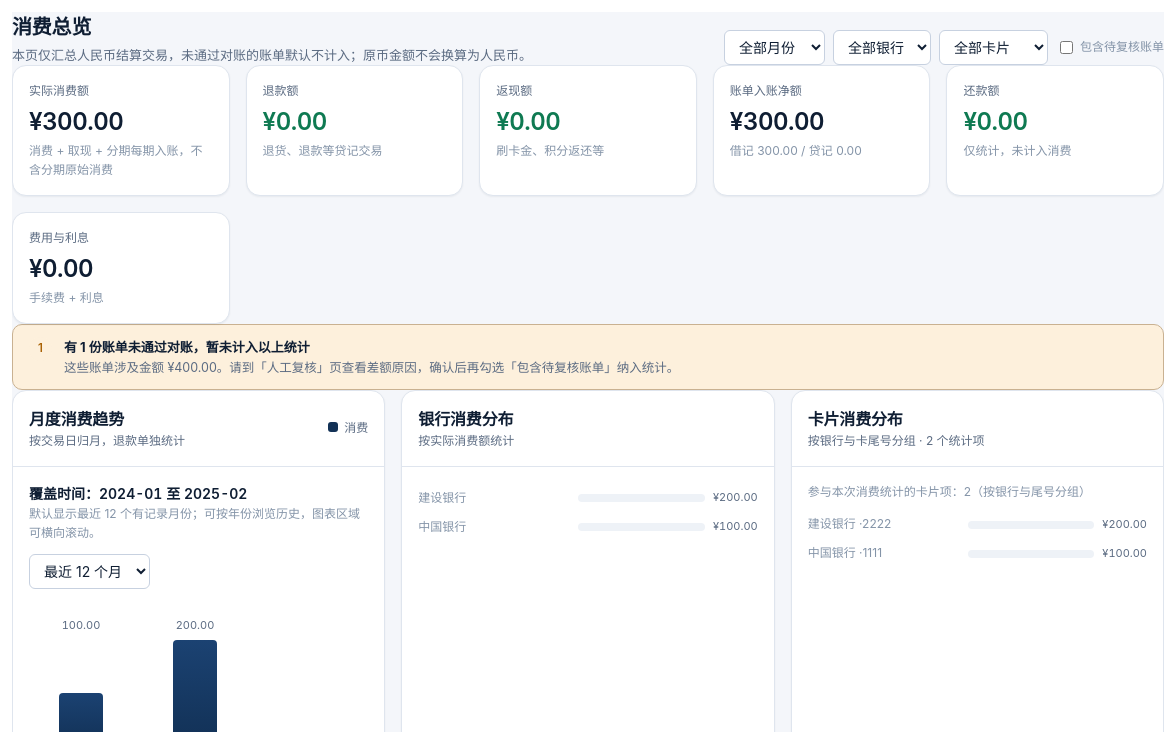
Scenario: Dashboard monthly trend presentation › updates year choices after global filters and does not let chart selection change summary totals
Expected: the text "实际消费额" shows "¥300.00", [29,107,123,136]
Select "按年份查看" in the dropdown named "消费趋势显示范围" at (90, 572), box [29,554,150,589]
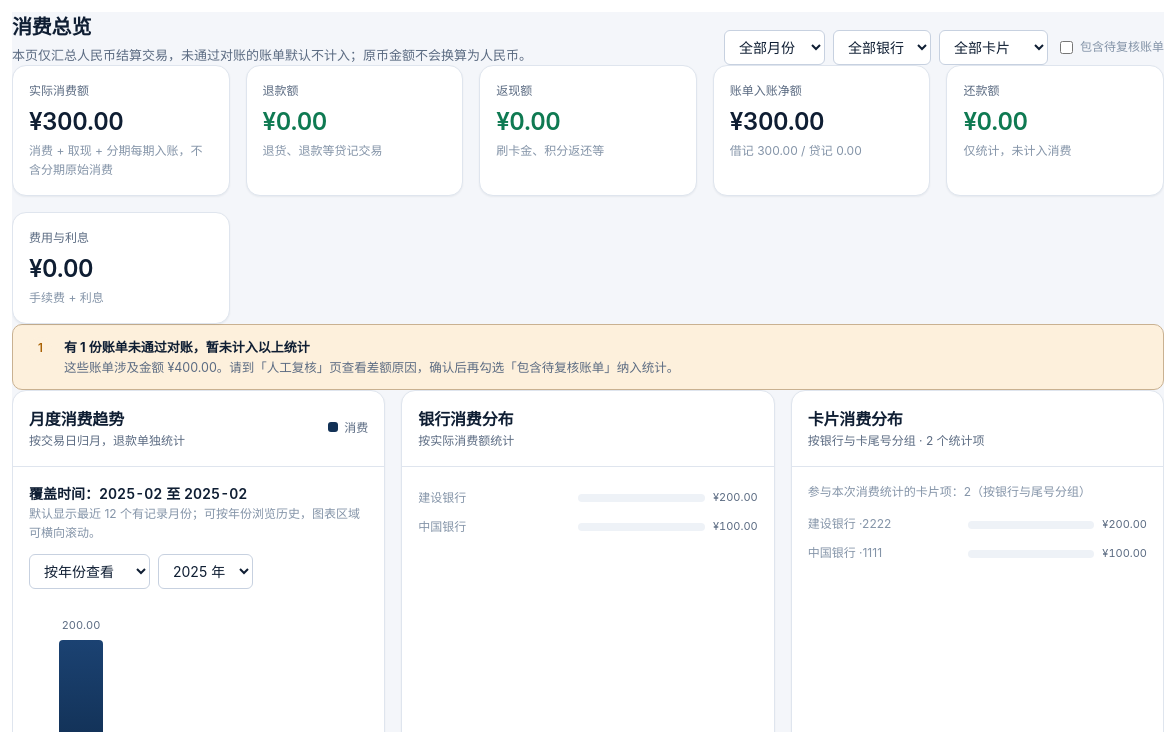
Select "2024 年" in the dropdown named "消费趋势年份" at (206, 572), box [158,554,253,589]
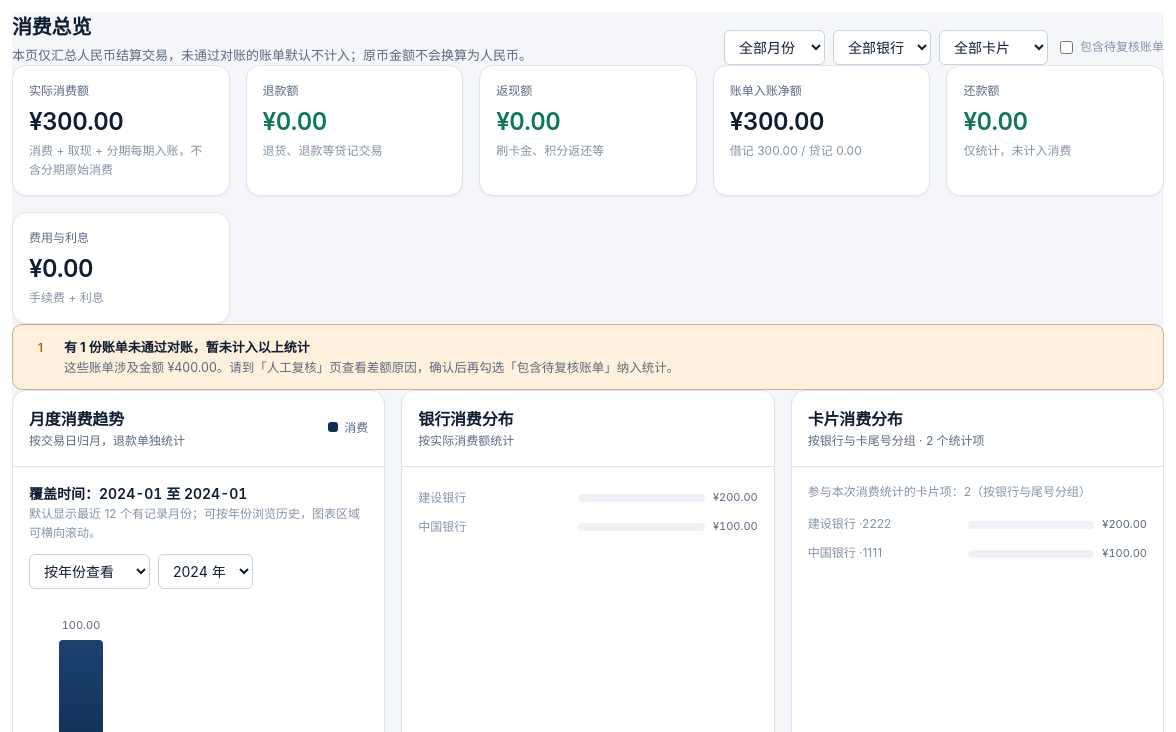
Expected: the text "实际消费额" shows "¥300.00", [29,107,123,136]
Select "建设银行" in the dropdown named "总览银行筛选" at (882, 48), box [833,30,931,65]
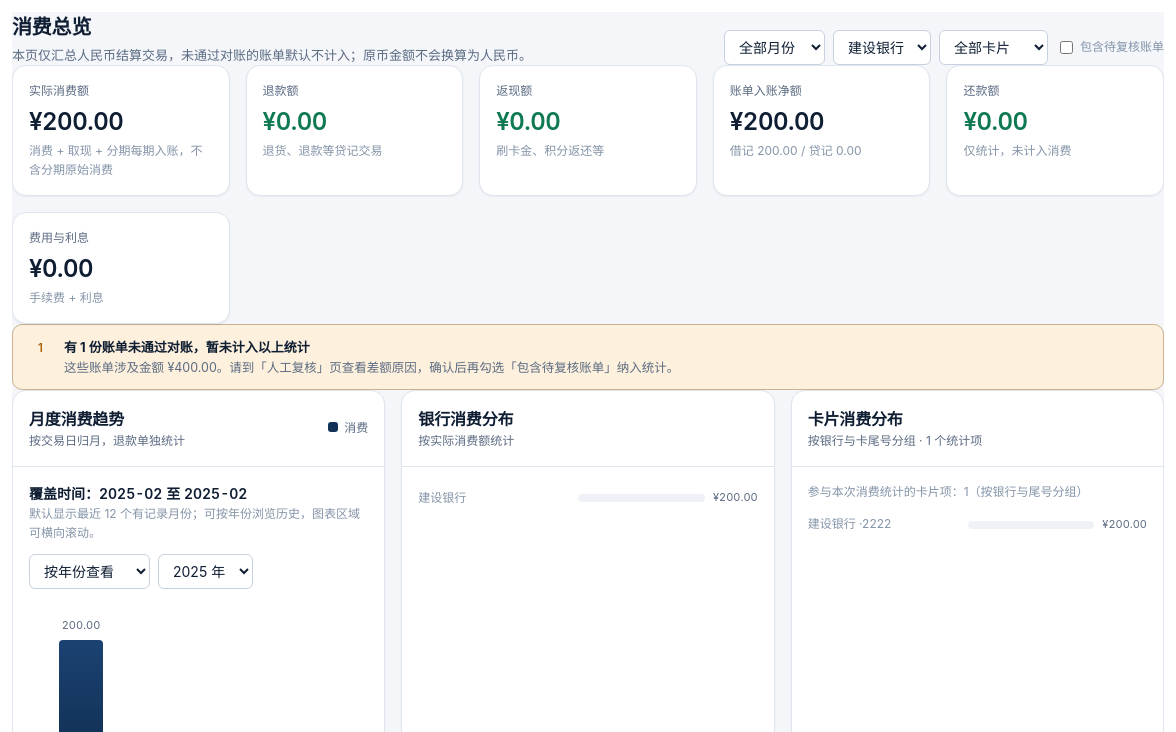
Now the text "实际消费额" shows "¥200.00", box [29,107,123,136]
Select "尾号 2222" in the dropdown named "总览卡片筛选" at (994, 48), box [939,30,1048,65]
Select "2025-02" in the dropdown named "总览月份筛选" at (774, 48), box [724,30,825,65]
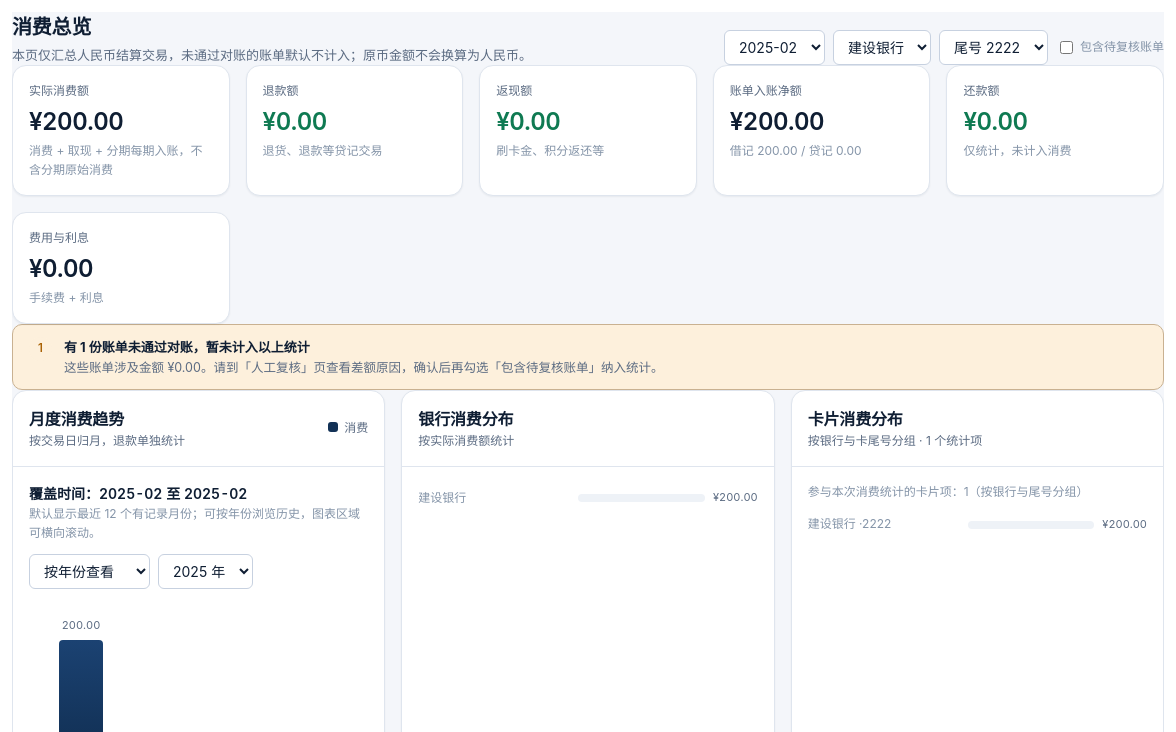
Now the text "实际消费额" shows "¥200.00", box [29,107,123,136]
Select "全部月份" in the dropdown named "总览月份筛选" at (774, 48), box [724,30,825,65]
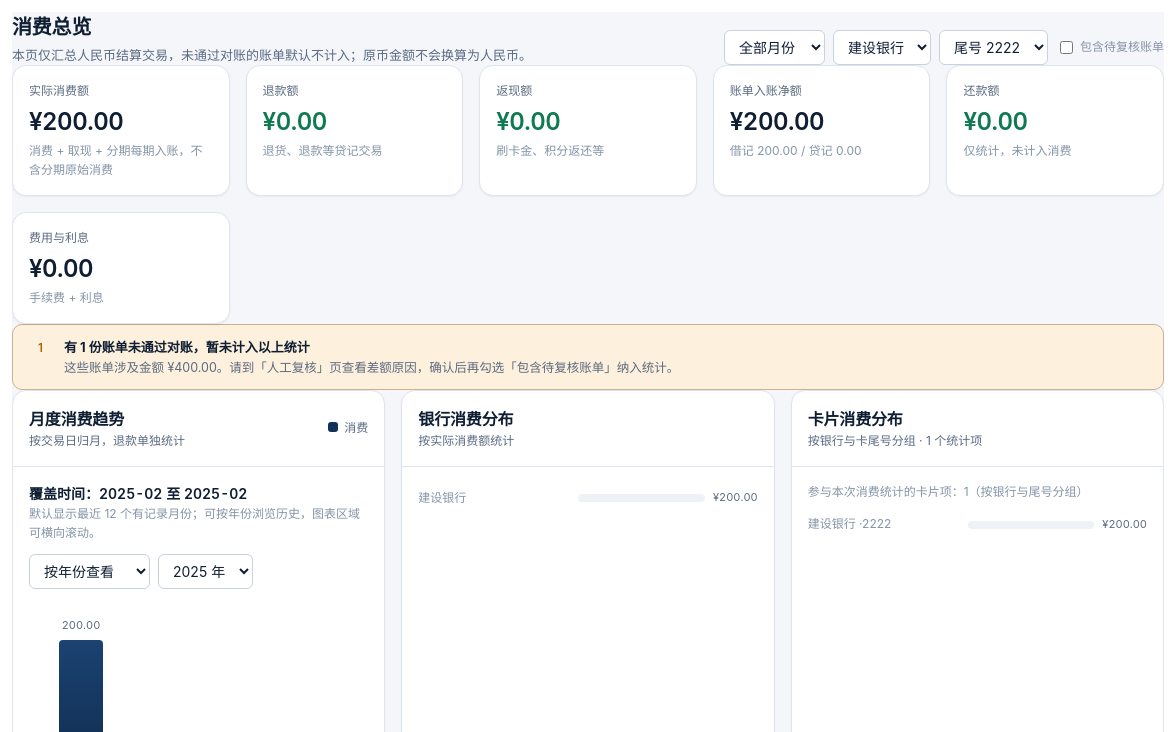
Click the checkbox labelled "包含待复核账单" at (1066, 48), box [1060,41,1073,54]
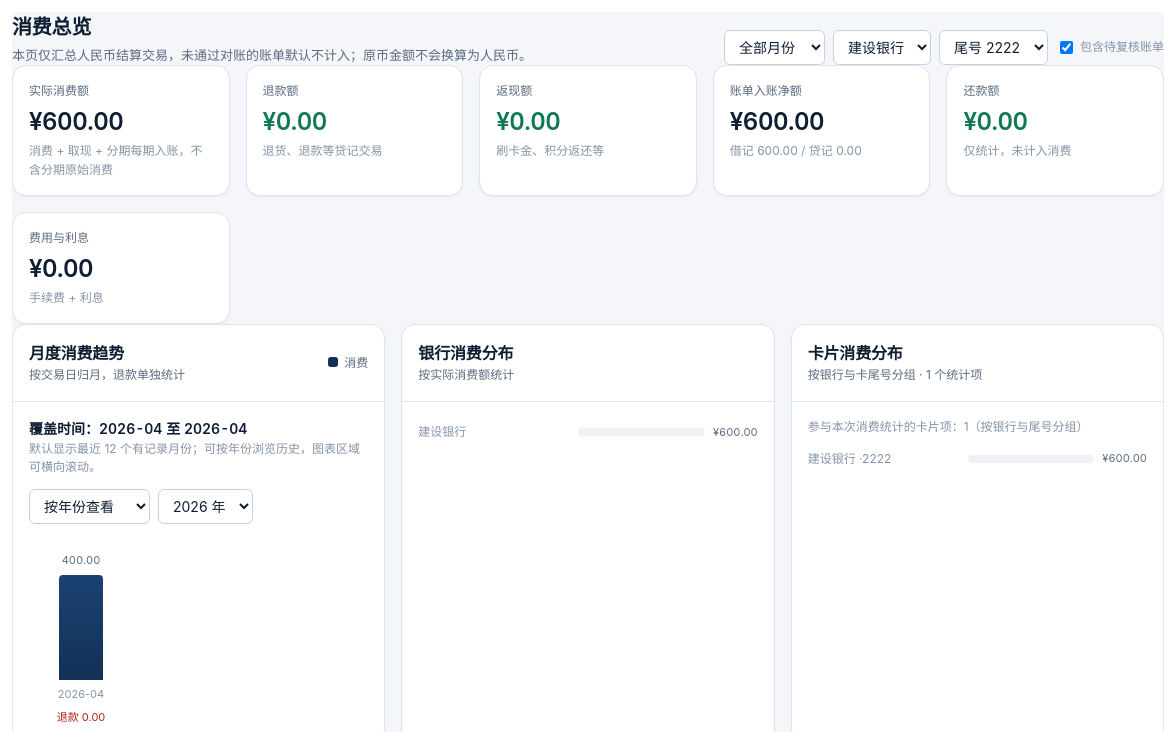
Now the text "实际消费额" shows "¥600.00", box [29,107,123,136]
